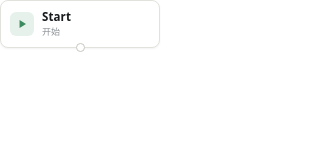
Scenario: 画布内节点重命名（R6-3） › 双击标题进入编辑，Enter 提交并写入 data.label
Double-click the button "Start 开始" at (80, 24), box [0,0,160,48]
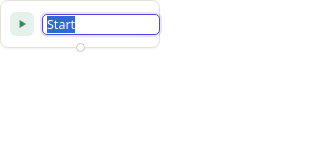
Replace the text in the field named "节点名称" with "新名字" at (101, 24), box [42,14,160,34]
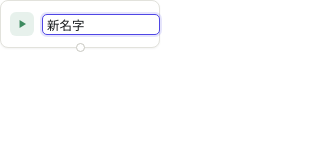
Press Enter in the field named "节点名称", box [42,14,160,34]
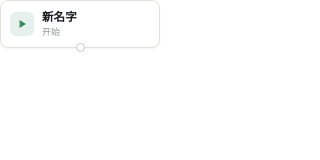
Now the text "新名字" is shown, box [42,10,77,24]
